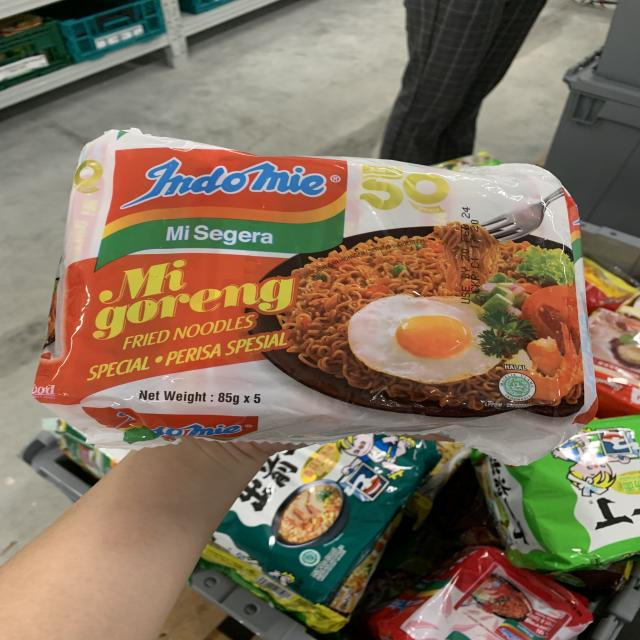object_name: (68, 142, 575, 445)
